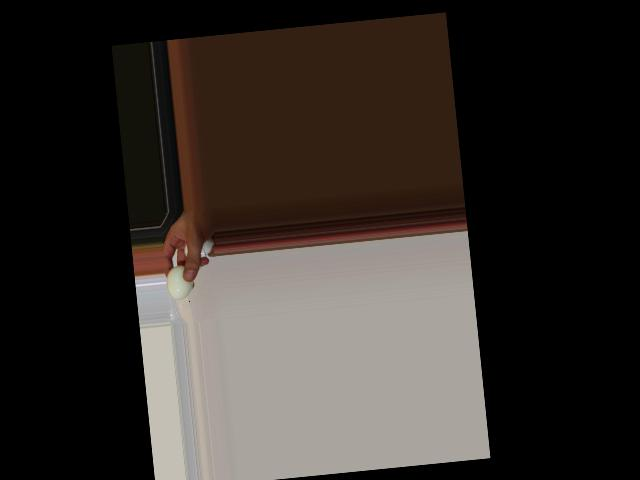egg: (164, 264, 195, 300)
